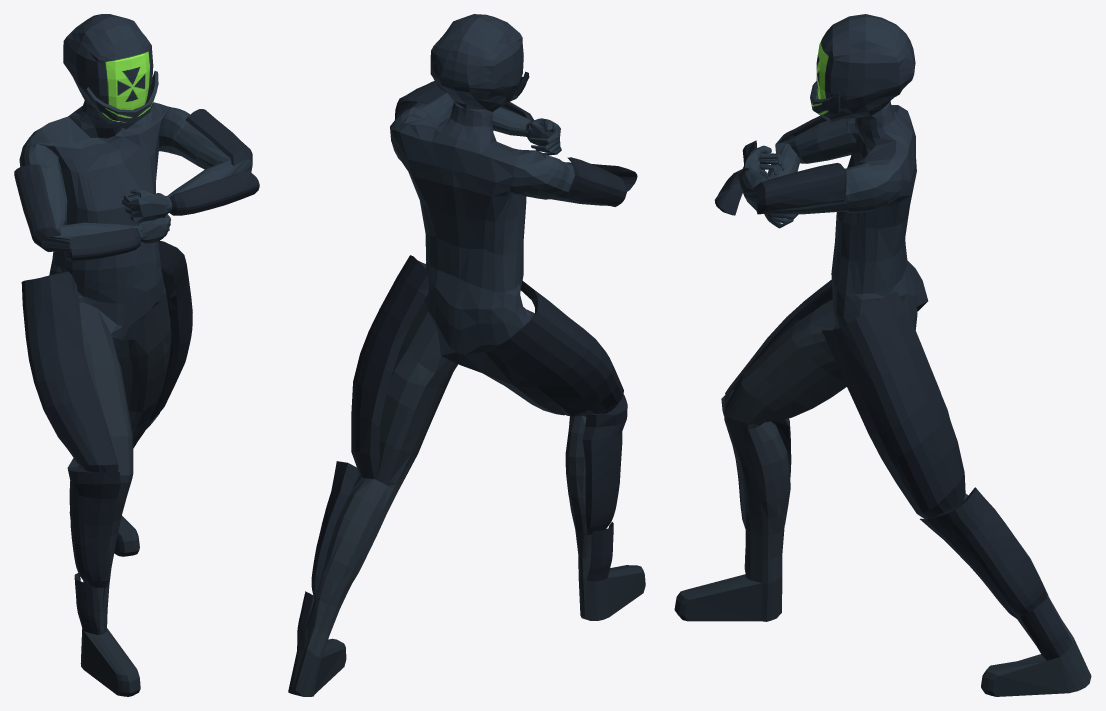
The model's file is Bastion_Stun_000001.obj.
The picture shows the model from 3 angles, left to right: view 1: azimuth 30°, elevation 25°; view 2: azimuth 150°, elevation 25°; view 3: azimuth 270°, elevation 25°; orthographic projection. The views are drawn at different scales.
Visible parts, largest first — view 1: Cube.002; view 2: Cube.002; view 3: Cube.002.
Part boxes in pixels (box(x1,y1,x2,y2)): Cube.002: box(14, 14, 259, 696); Cube.002: box(288, 14, 645, 696); Cube.002: box(674, 14, 1091, 696).
Size of the model in its own units: 1.31 by 3.59 by 2.14.
